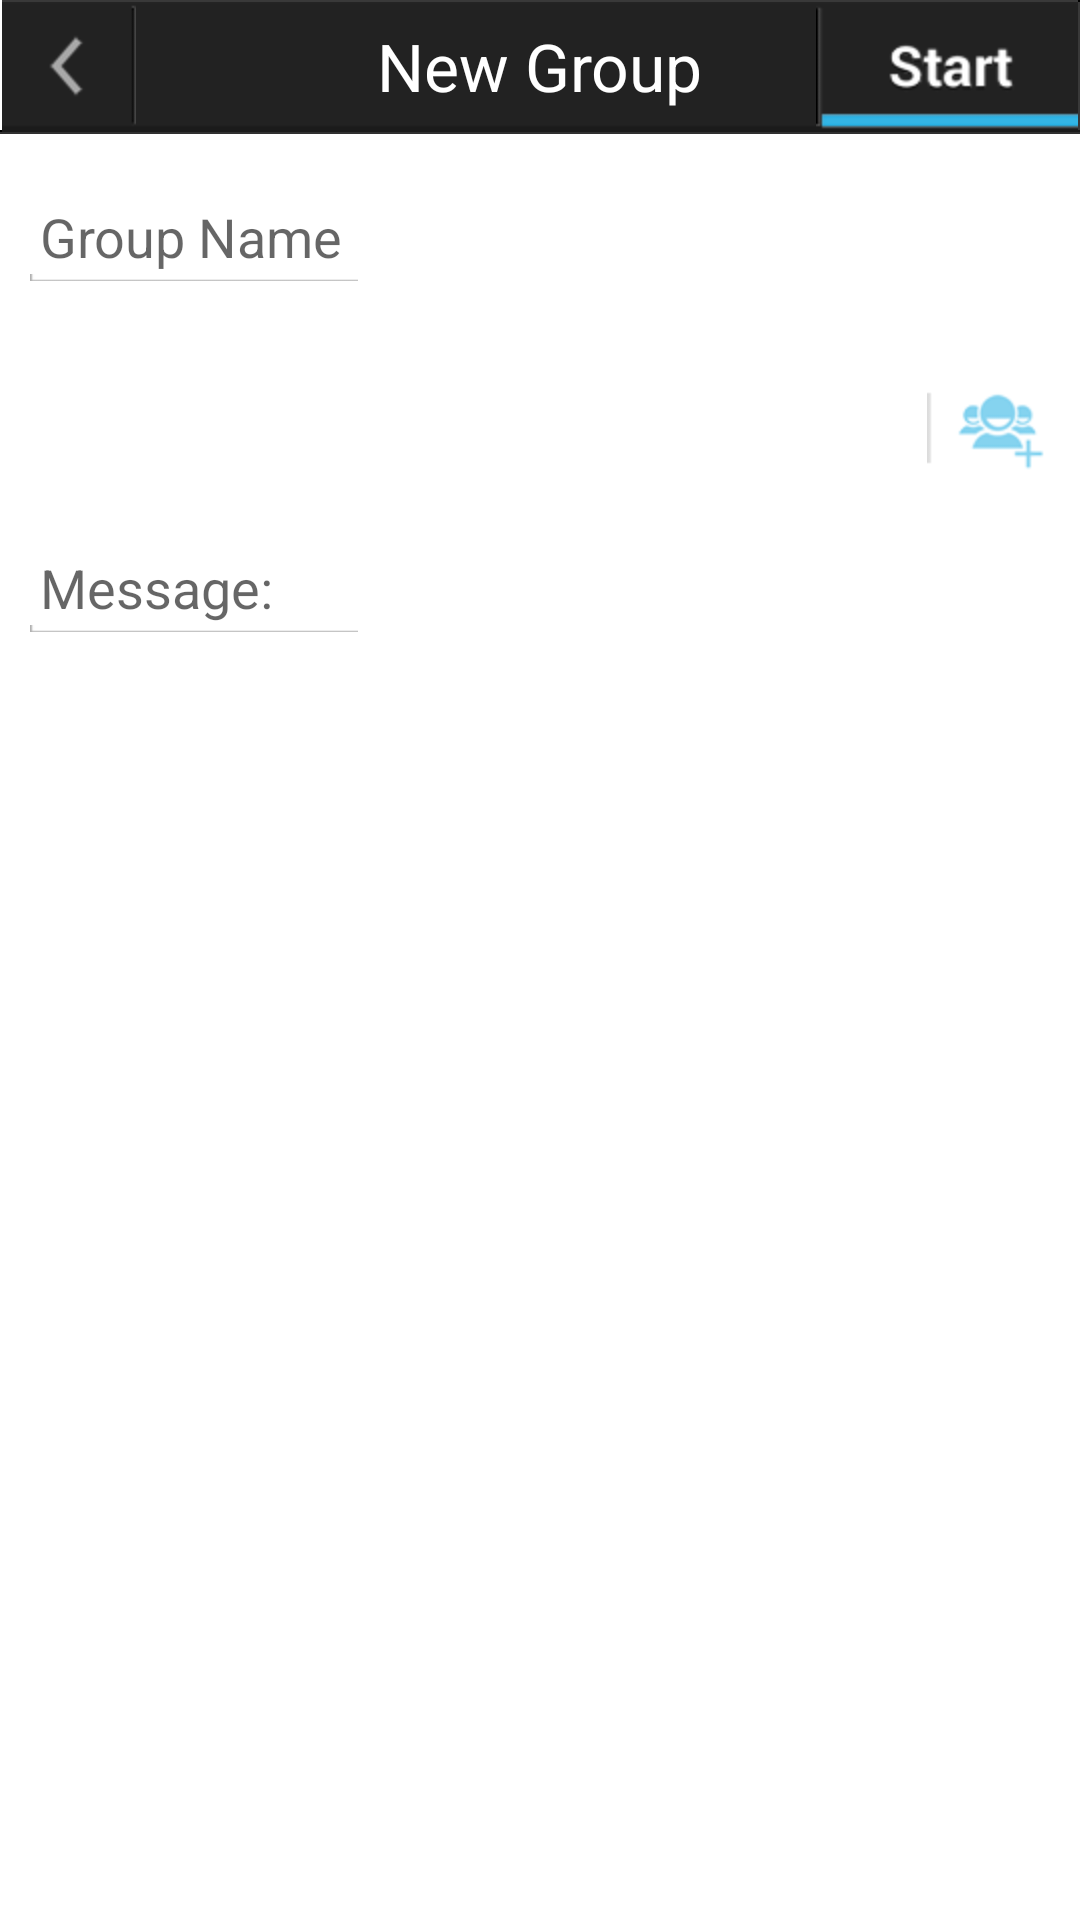

Icons on this 1080 × 1920 Android screen, each with the point to tap as [x,y]:
add friends: [985,431]
